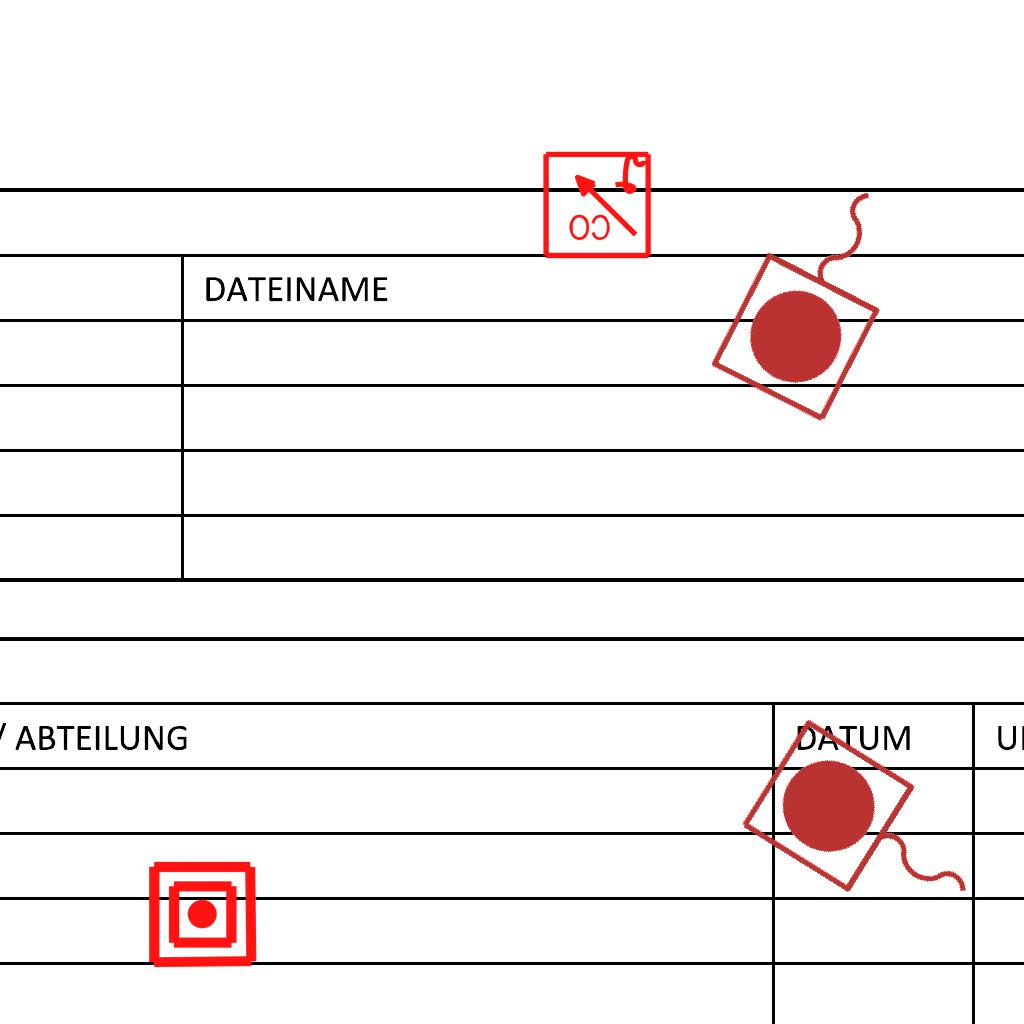NAM-Nichtautomatischer_Melder: (146, 858, 259, 971)
ROA_Rauchmelder_optisch_mit_Signalgeber_(Sockelsirene): (540, 147, 653, 260)
Zugtaster: (728, 708, 1012, 960), (700, 151, 940, 435)
